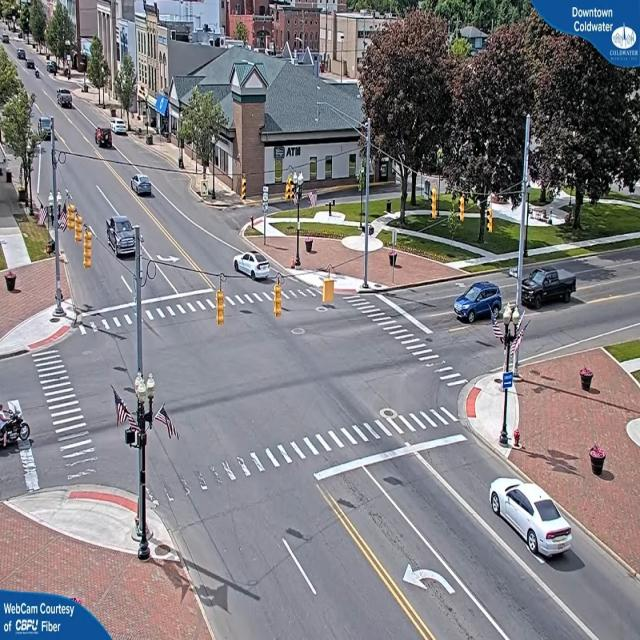car: (488, 476, 576, 563), (522, 268, 577, 311), (454, 284, 502, 324), (108, 216, 138, 258), (236, 251, 274, 282), (132, 176, 153, 196)
motorbike: (0, 403, 30, 450)
